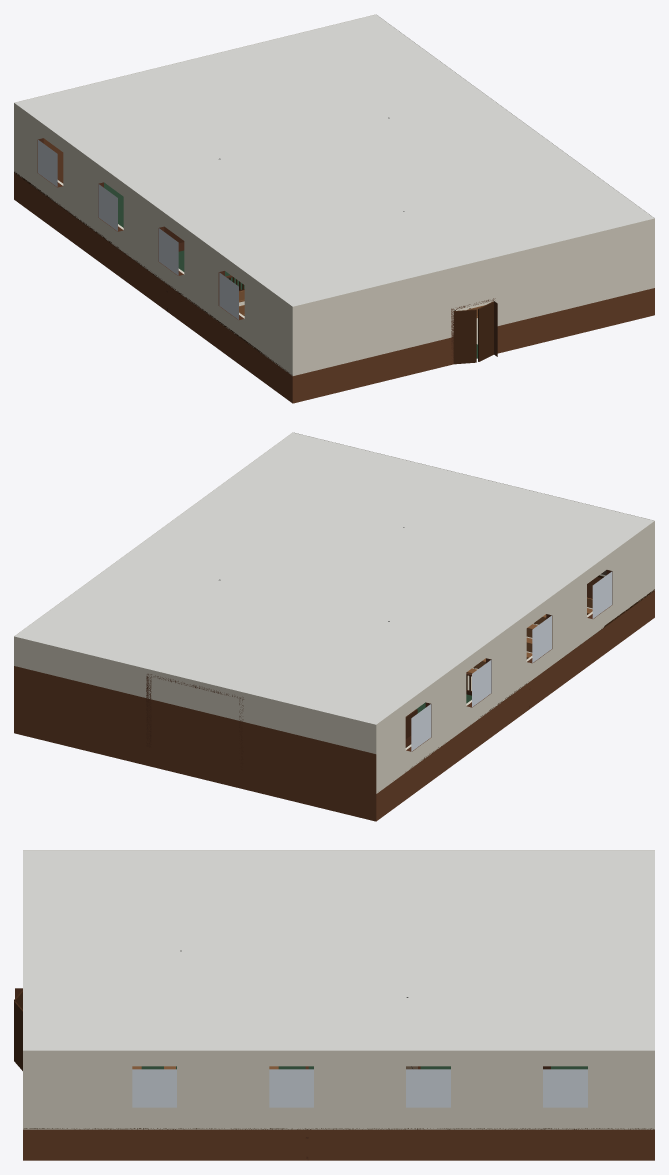
File: court.glb
The picture shows the model from 3 angles, top to bottom: view 1: azimuth 30°, elevation 25°; view 2: azimuth 150°, elevation 25°; view 3: azimuth 270°, elevation 25°; orthographic projection. The views are drawn at different scales.
Visible parts, largest first — view 1: Env, Windows; view 2: Env, Windows; view 3: Env, Windows.
Part boxes in pixels (x1,y1,x2,y2): Env: (14, 14, 654, 403); Windows: (38, 140, 238, 319); Env: (14, 432, 654, 821); Windows: (411, 571, 612, 751); Env: (14, 850, 654, 1160); Windows: (132, 1069, 587, 1107).
Bounding box in the file's own units: 18.6 × 4.6 × 24.34.
